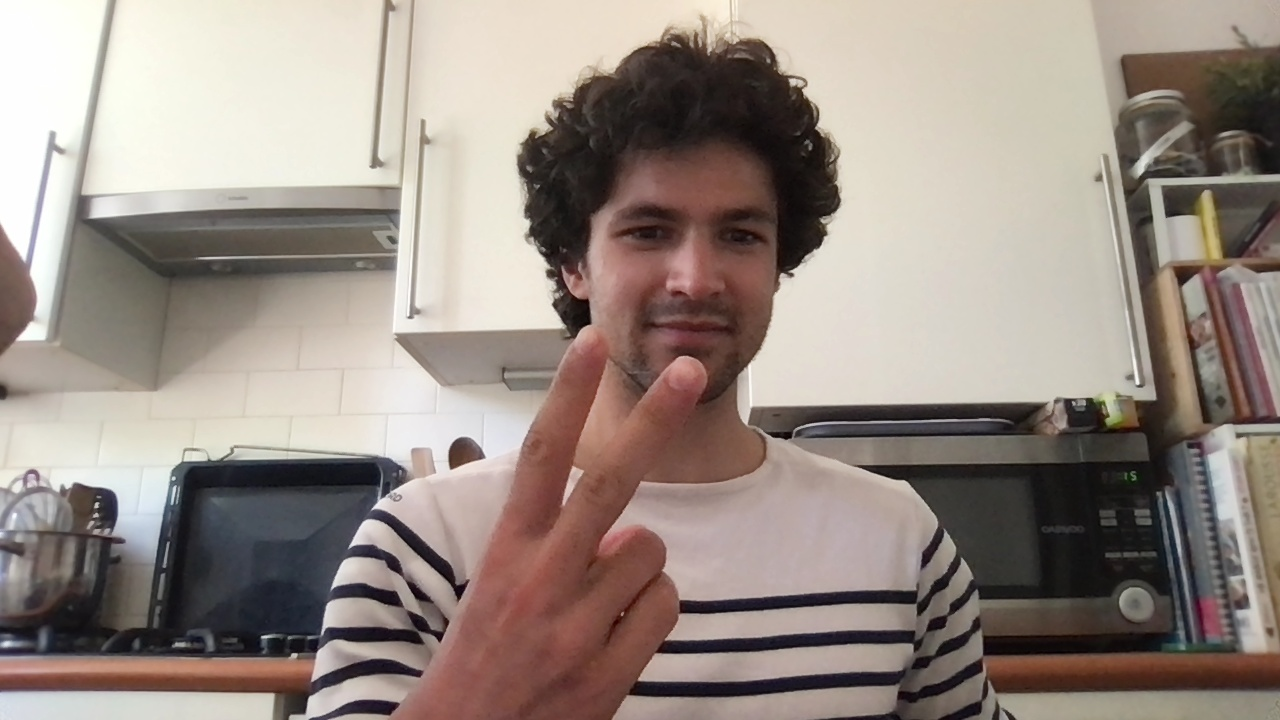peace: (468, 325, 709, 720)
